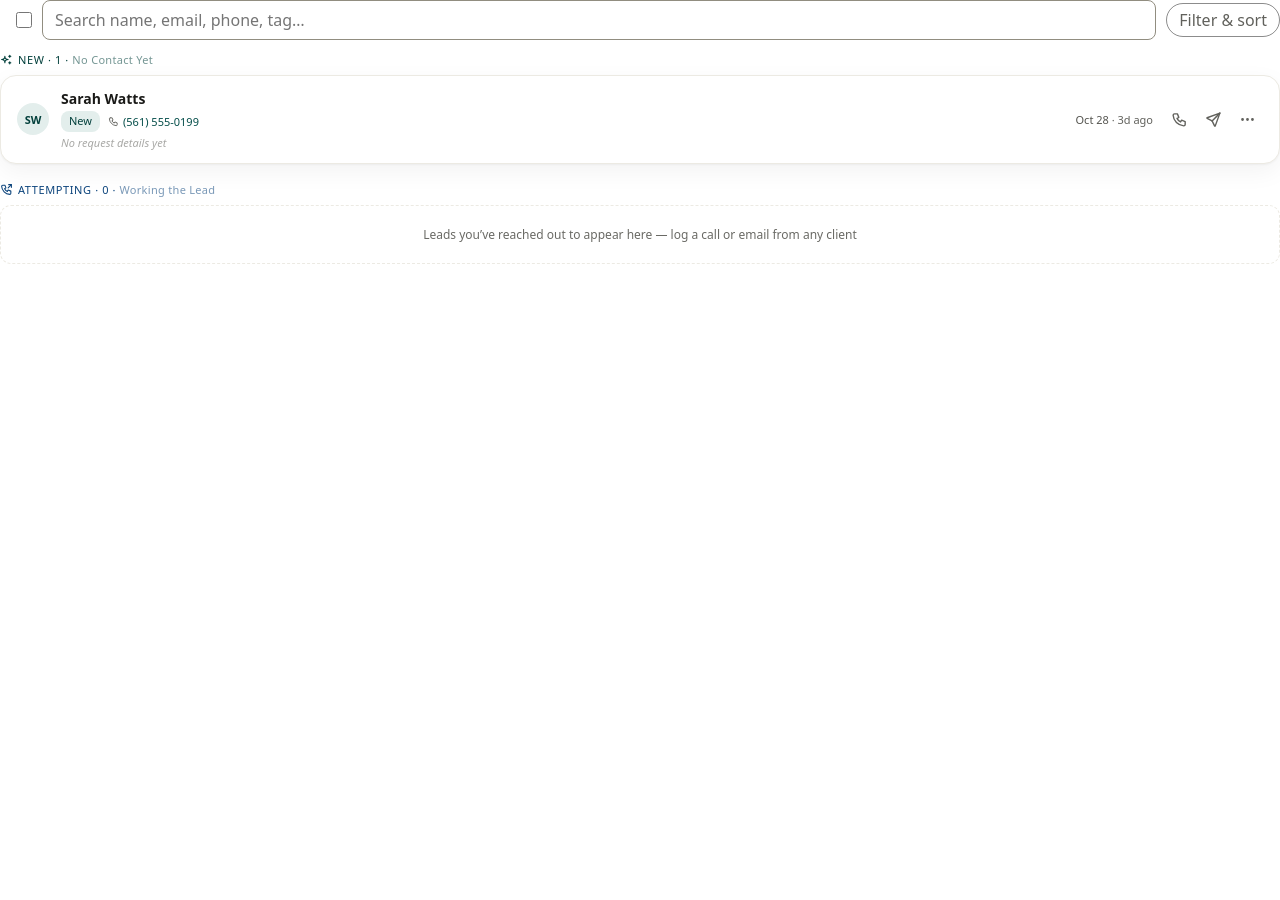
Scenario: the Closed menu item — gating (issue 204) › picking it opens the CloseLostWizard
The width and height of the screenshot is (1280, 900).
Click the button named "More": (1247, 119) [1231,103,1263,135]
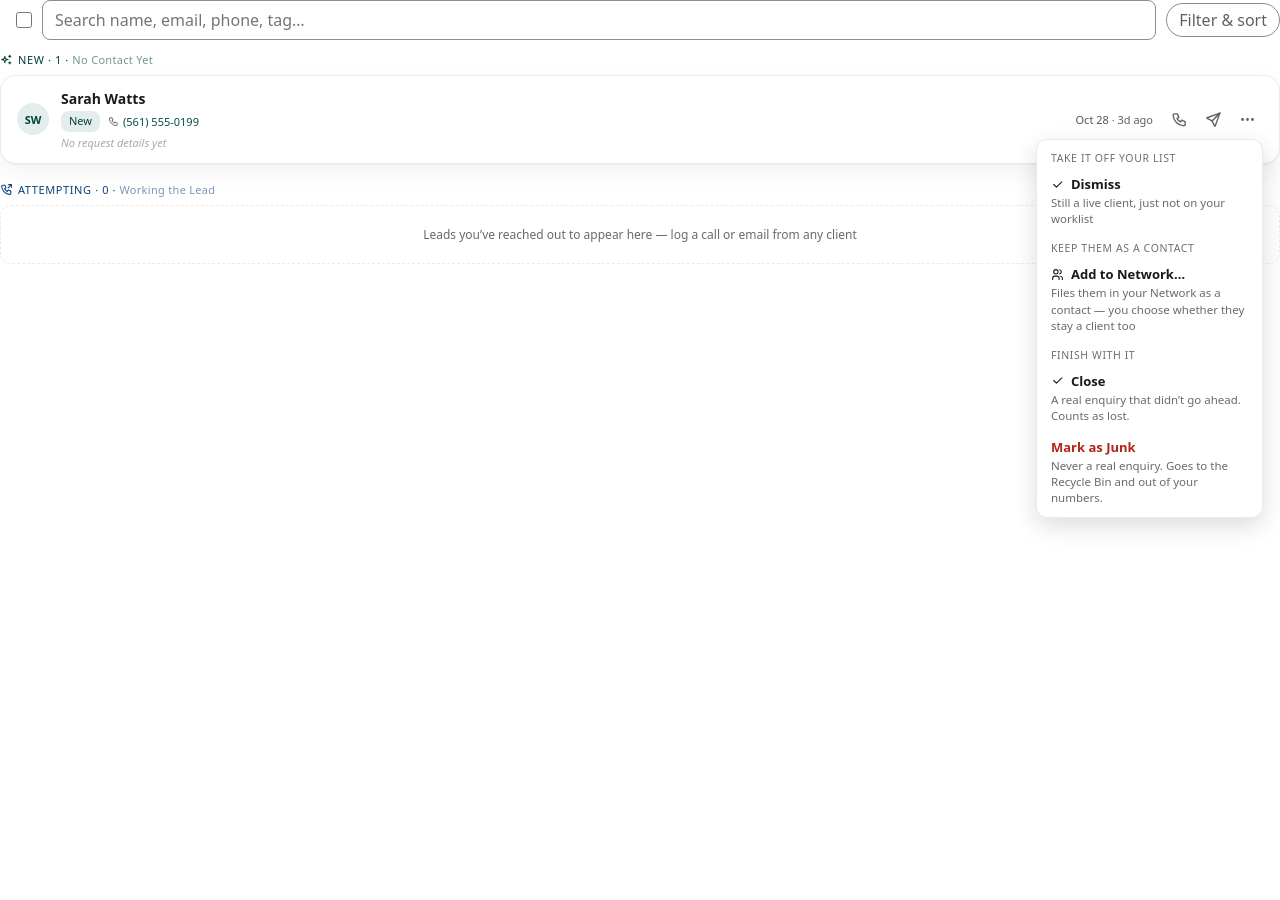
Click the button "Close A real enquiry that didn’t go ahead. Counts as lost.": (1150, 398) [1041,365,1258,431]
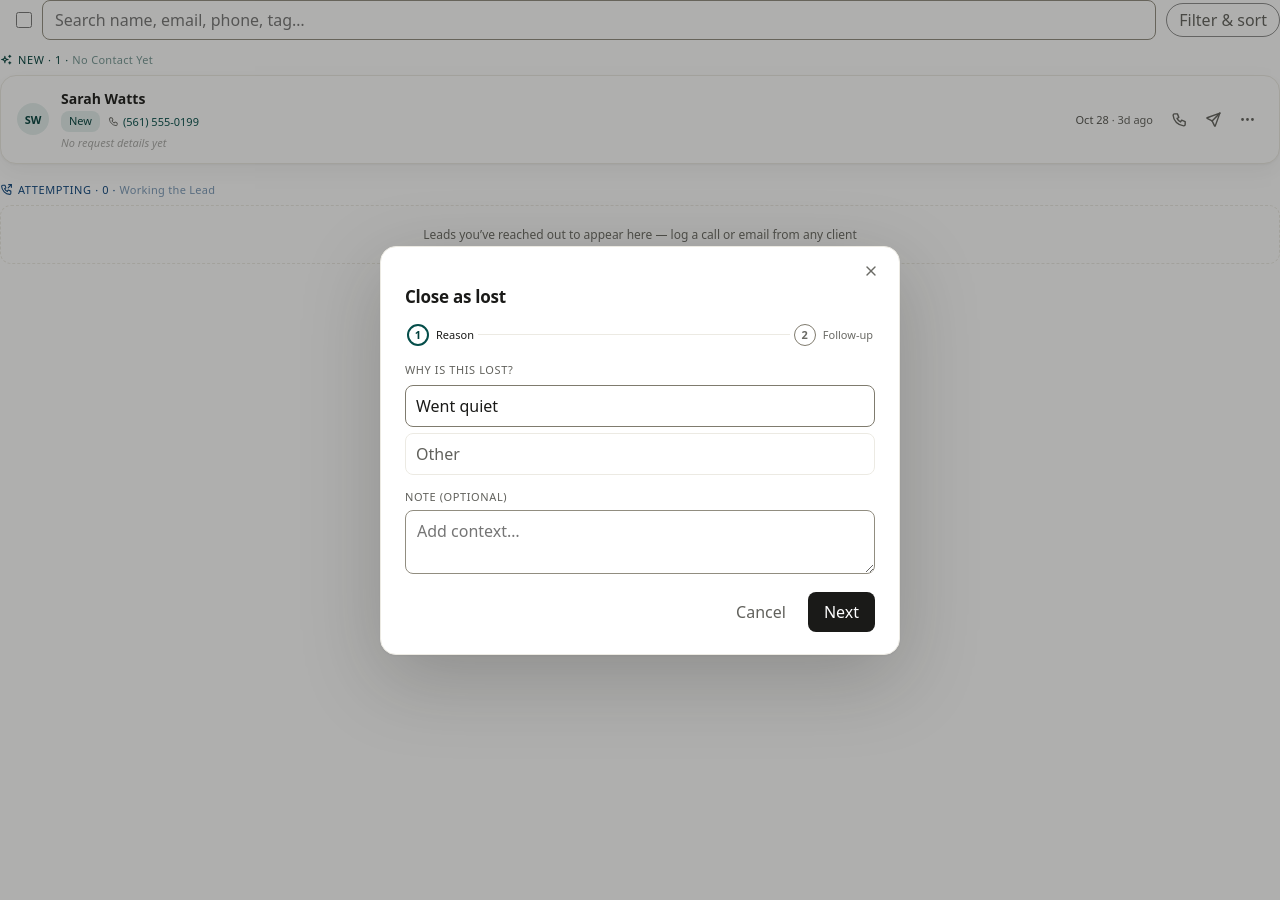
Expected: the text "Close as lost" is shown, [405,284,506,308]
